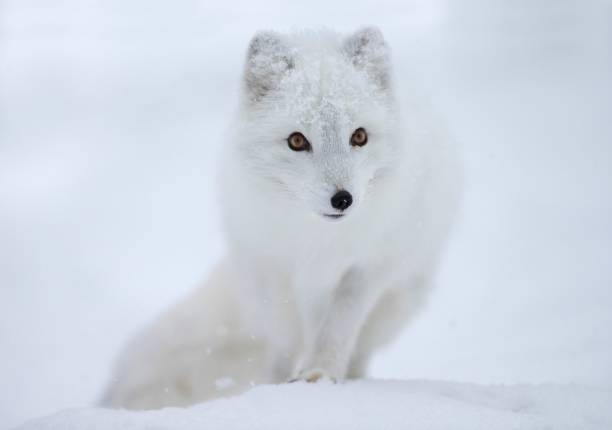arcticfox: (266, 70, 381, 239)
